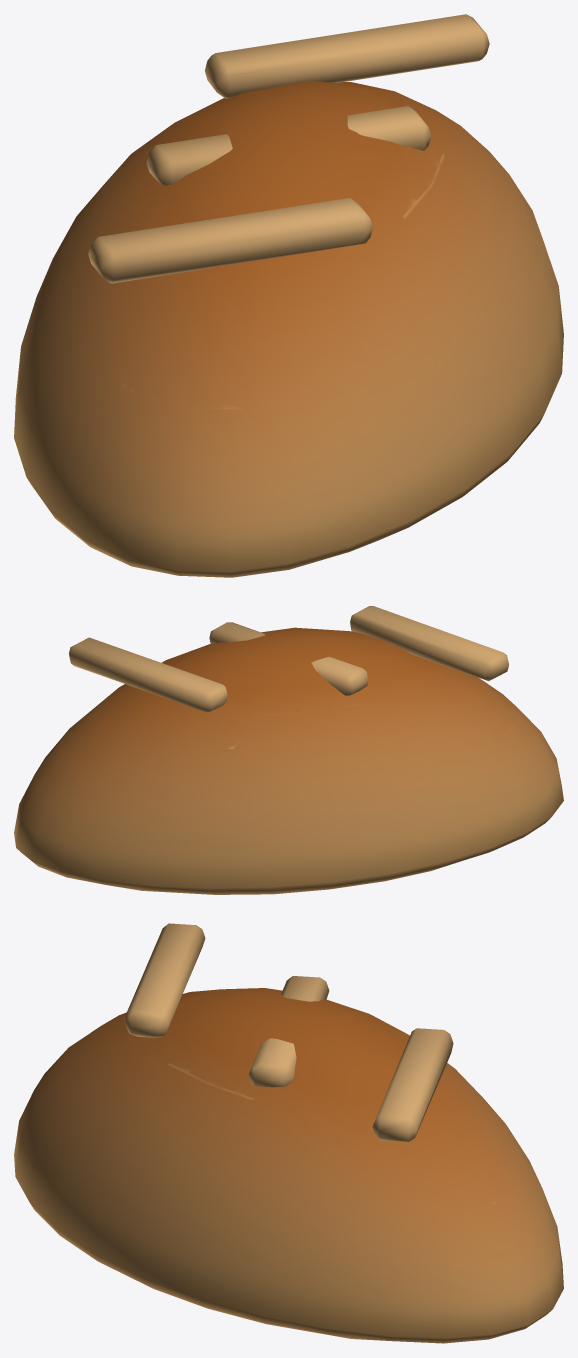
Rendered from item_bread.glb.
3 renders of one model, top to bottom at view 1: azimuth 30°, elevation 25°; view 2: azimuth 150°, elevation 25°; view 3: azimuth 270°, elevation 25°, orthographic. The views are drawn at different scales.
Parts seen in each view (by area): view 1: bread; view 2: bread; view 3: bread.
Boxes of the visible parts, <box> form: bread: <box>14,14,563,577</box>; bread: <box>14,606,563,894</box>; bread: <box>14,923,563,1343</box>.
Size of the model in its own units: 0.5332 by 0.26 by 0.5332.
1 material, 1 textured.
